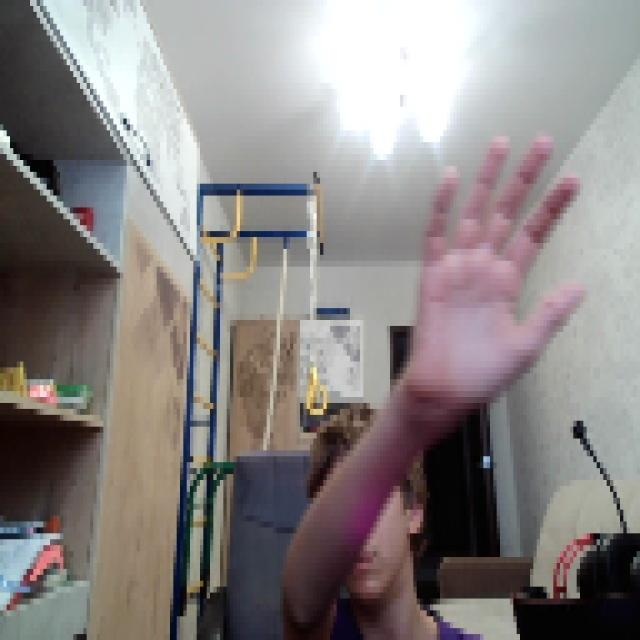hand: (411, 125, 581, 404)
